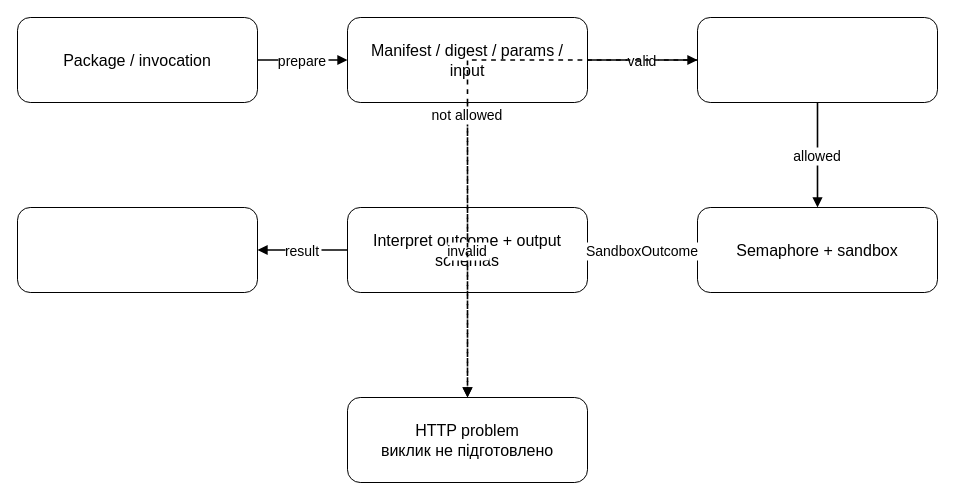
Image size: 955x500. Some labels were removed from this diagram. The shapes that lost their labels are listed below. From the top down, each one's centre as x and y in pixels, then its label:
At point (817, 59): "Profile / network policy / caps".
At point (137, 249): "HandlerResult 4 кінцеві status".
